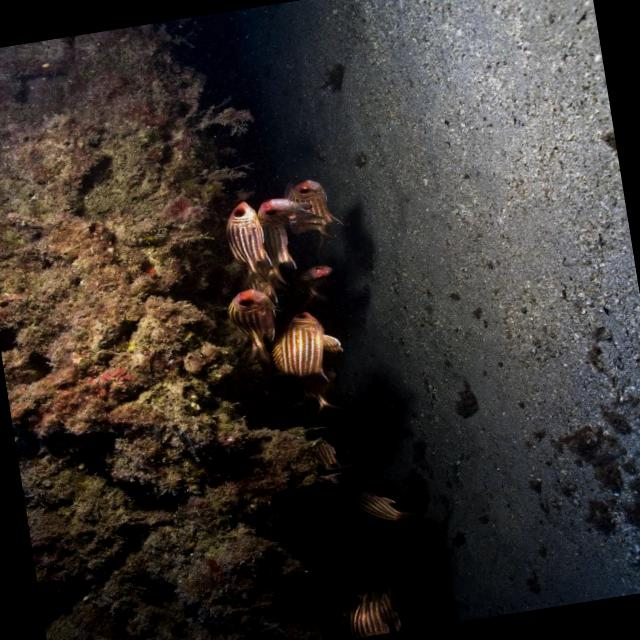Asker Baligi: (263, 299, 353, 428), (212, 191, 285, 287), (217, 283, 286, 374)
